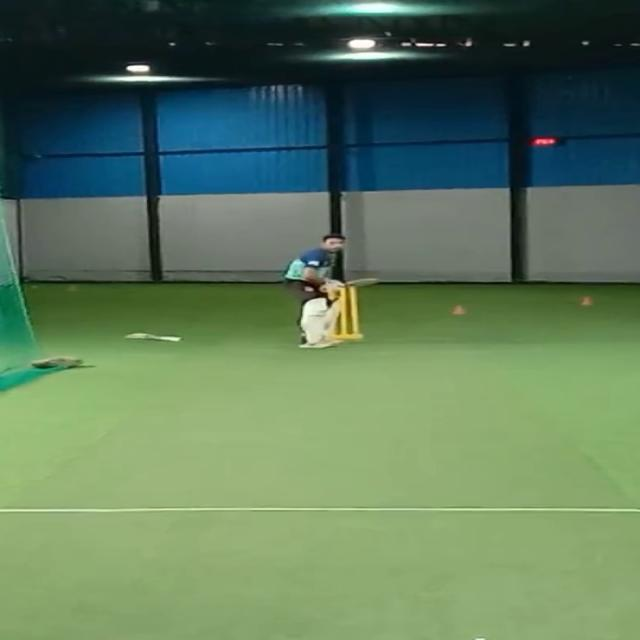stump: (339, 283, 365, 339)
